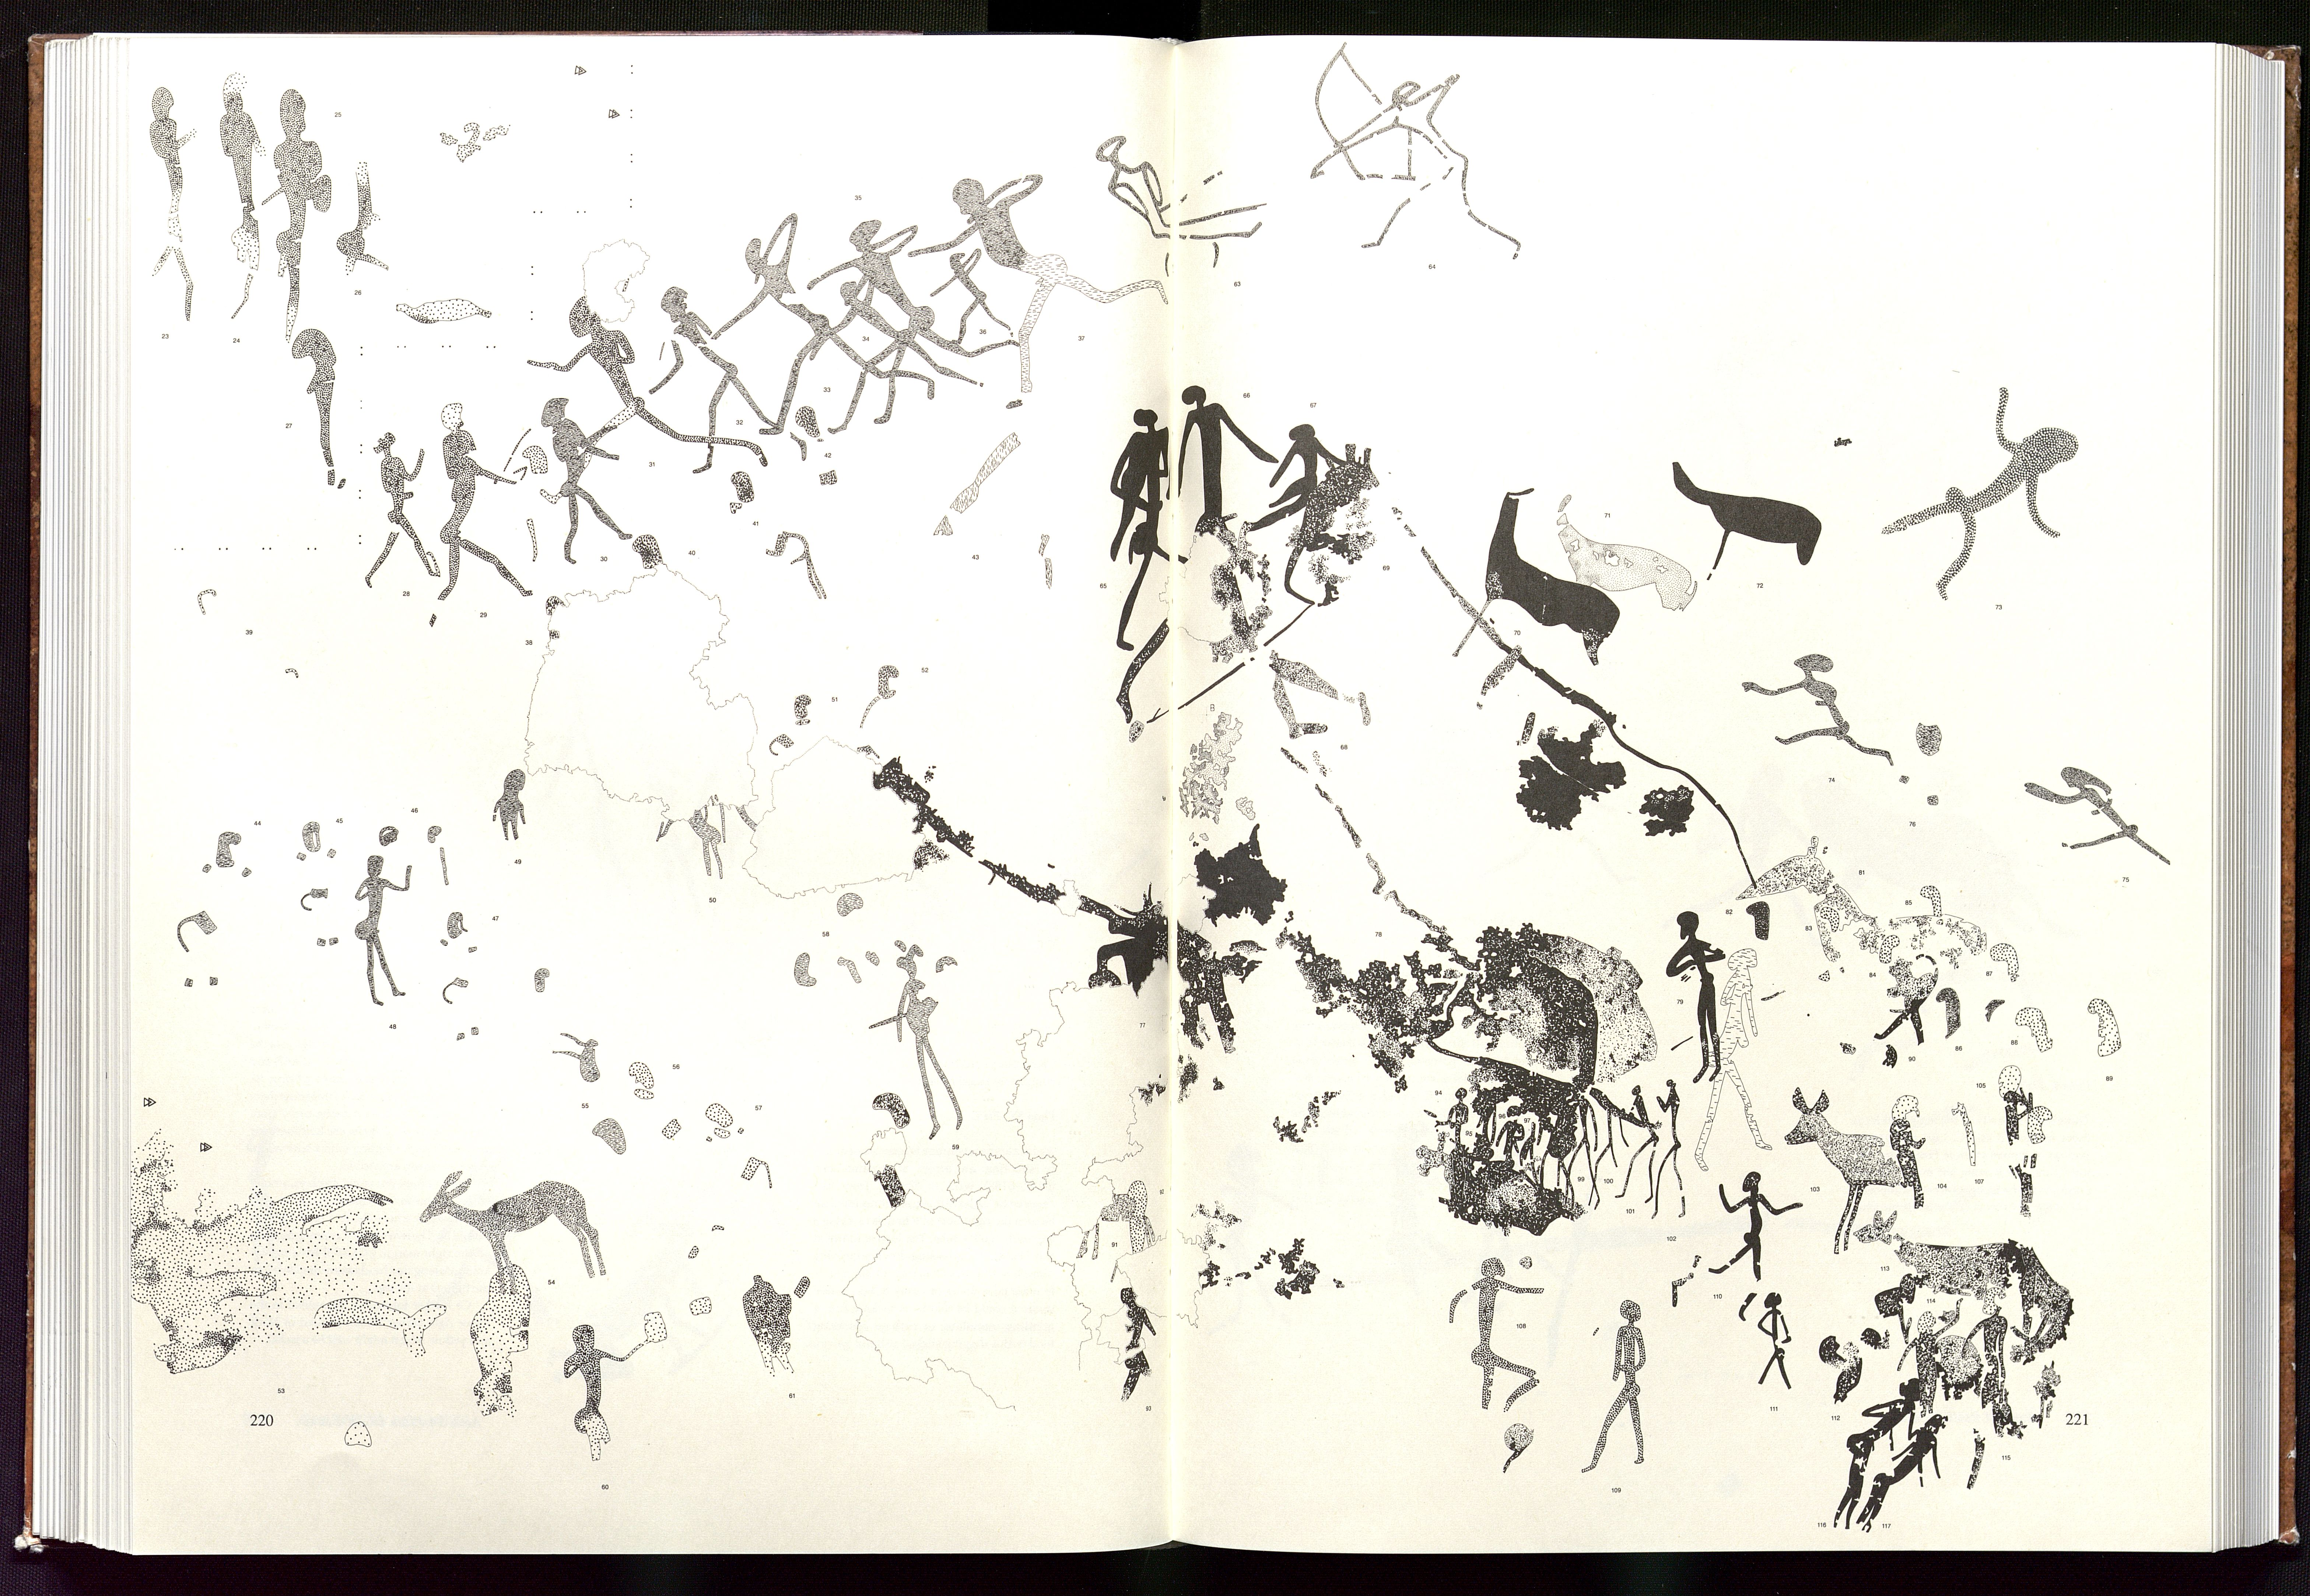animal: (1848, 1202, 2089, 1376), (1453, 475, 1620, 681), (409, 1162, 628, 1292), (1780, 1069, 1947, 1224), (1667, 458, 1831, 595), (1546, 485, 1704, 613)
human: (1293, 50, 1532, 278), (707, 215, 940, 433), (805, 212, 1050, 411), (915, 171, 1171, 352), (1873, 382, 2082, 595), (542, 303, 768, 473), (635, 276, 800, 487), (1094, 131, 1271, 281), (431, 406, 542, 629), (1237, 406, 1352, 622), (861, 949, 979, 1158), (1735, 649, 1910, 777), (1448, 1241, 1546, 1465), (525, 389, 643, 573), (1166, 382, 1266, 595), (2020, 762, 2180, 880), (137, 77, 206, 340), (350, 423, 446, 600), (262, 84, 331, 327), (210, 57, 269, 337), (557, 1320, 643, 1477), (1662, 907, 1733, 1089), (284, 323, 358, 495), (1706, 1165, 1780, 1325), (350, 850, 419, 1013)
